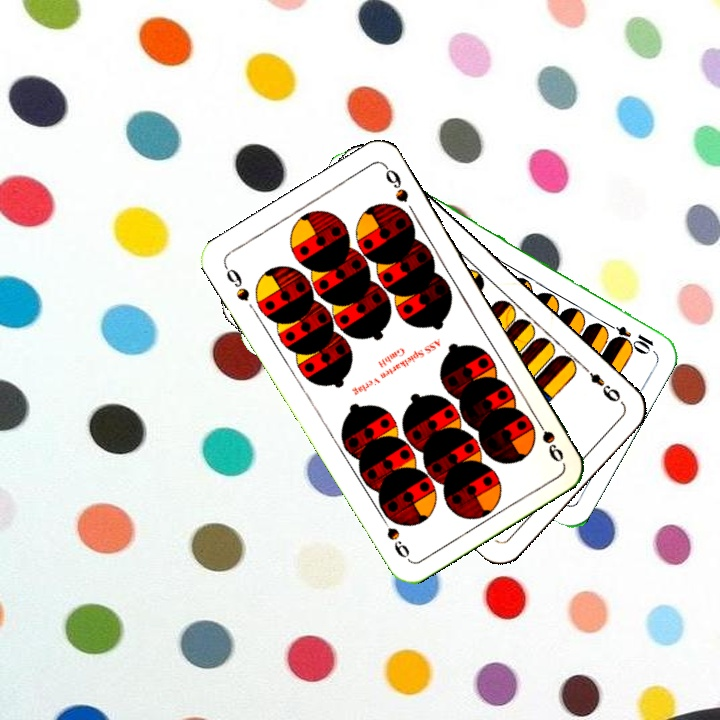E10: (600, 318, 657, 354)
E9: (578, 361, 623, 405)
S9: (529, 410, 567, 465), (220, 261, 253, 304)
